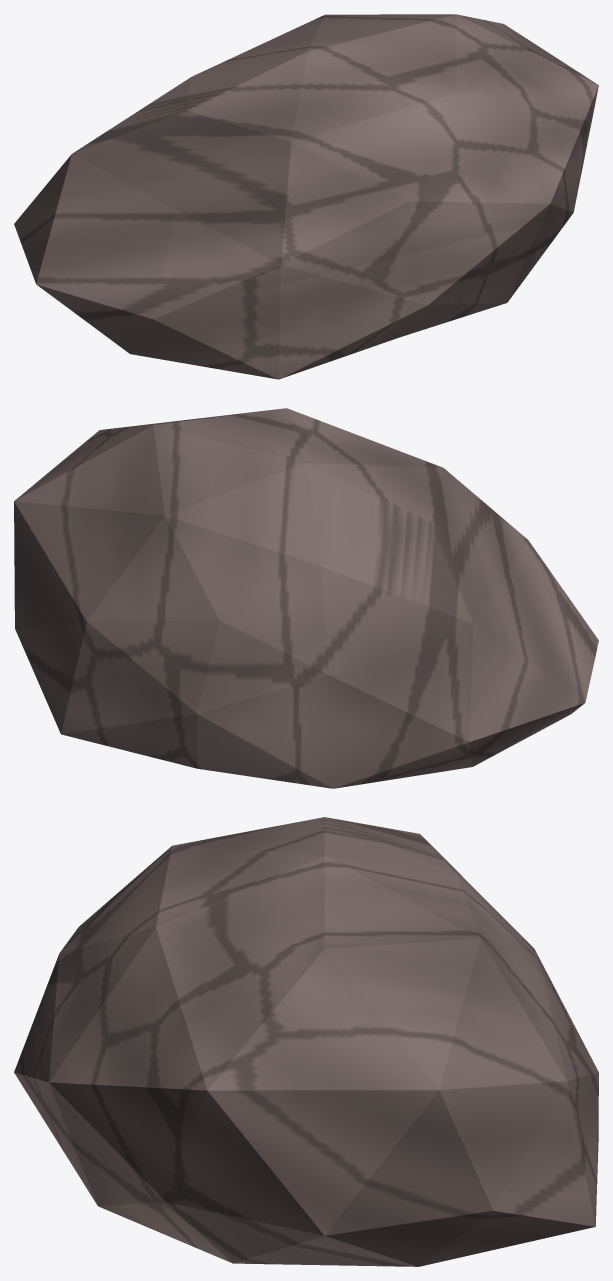
Rendered from Rock3.obj.
3 views of the same model, one above another, from view 1: azimuth 30°, elevation 25°; view 2: azimuth 150°, elevation 25°; view 3: azimuth 270°, elevation 25° (orthographic). The views are drawn at different scales.
Parts seen in each view (by area): view 1: Rock3; view 2: Rock3; view 3: Rock3.
Boxes of the visible parts, x1,y1,x2,y2 form: Rock3: (14,14,598,379); Rock3: (14,408,598,788); Rock3: (14,817,598,1266).
Bounding box in the file's own units: 2.59 × 1.03 × 1.91.
Materials: 1 (1 with a texture image).
